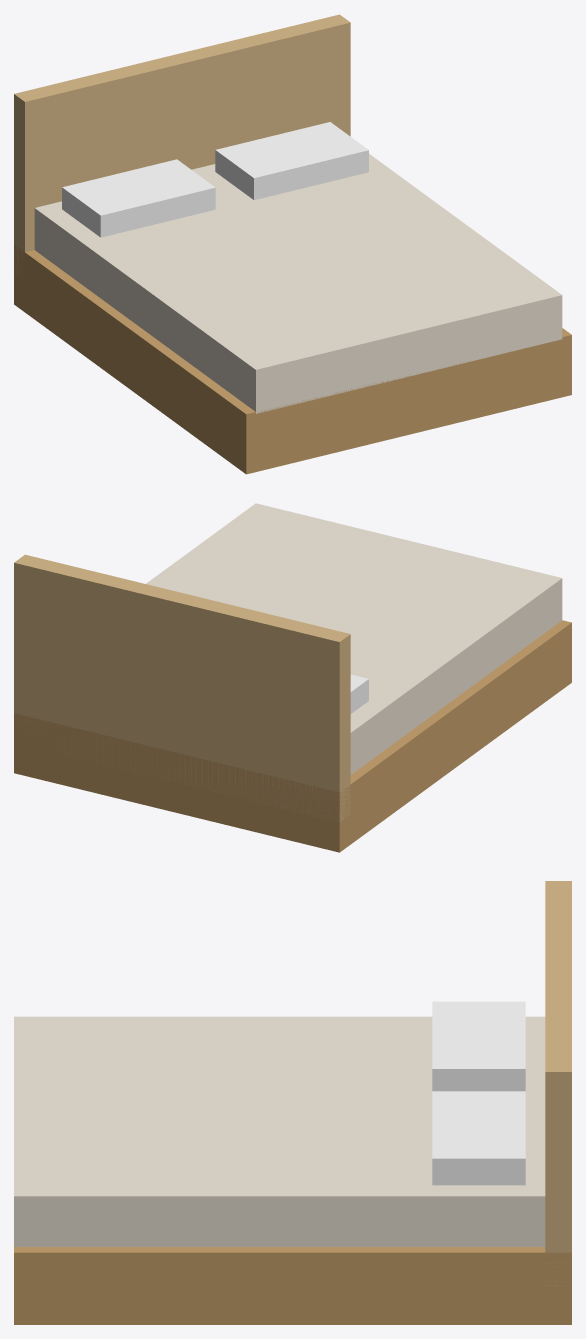
File: bed_oak.glb
3 views of the same model, one above another, from view 1: azimuth 30°, elevation 25°; view 2: azimuth 150°, elevation 25°; view 3: azimuth 270°, elevation 25° (orthographic). The views are drawn at different scales.
Visible parts, largest first — view 1: bed_oak; view 2: bed_oak; view 3: bed_oak.
Part boxes in pixels (x1,y1,x2,y2): bed_oak: (14, 14, 571, 474); bed_oak: (14, 503, 571, 852); bed_oak: (14, 881, 571, 1324).
Size of the model in its own units: 1.7 by 1.05 by 2.1.
